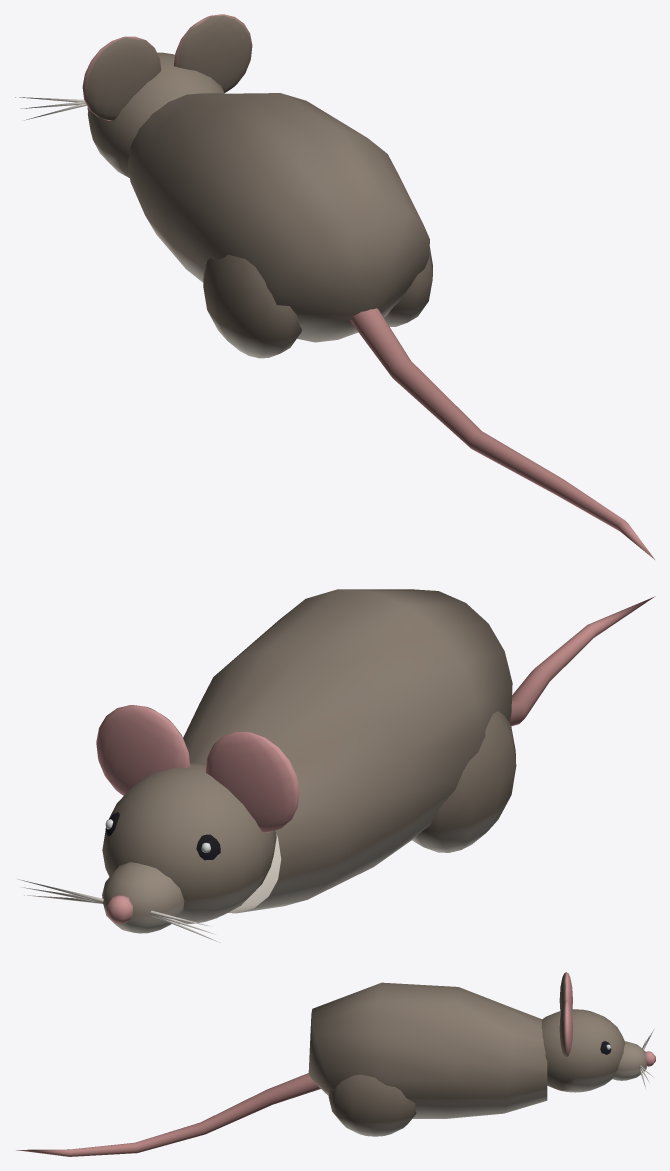
Rendered from Nezumi.fbx.
3 renders of one model, top to bottom at view 1: azimuth 30°, elevation 25°; view 2: azimuth 150°, elevation 25°; view 3: azimuth 270°, elevation 25°, orthographic. The views are drawn at different scales.
Parts seen in each view (by area): view 1: Nezumi; view 2: Nezumi; view 3: Nezumi.
Part boxes in pixels (<box>): Nezumi: <box>15,14,654,559</box>; Nezumi: <box>17,589,655,942</box>; Nezumi: <box>16,972,655,1156</box>.
Bounding box in the file's own units: 1.34 × 1.47 × 5.78.
